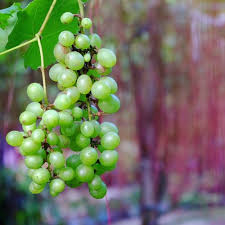grapes: (51, 12, 126, 200), (8, 82, 67, 205)
